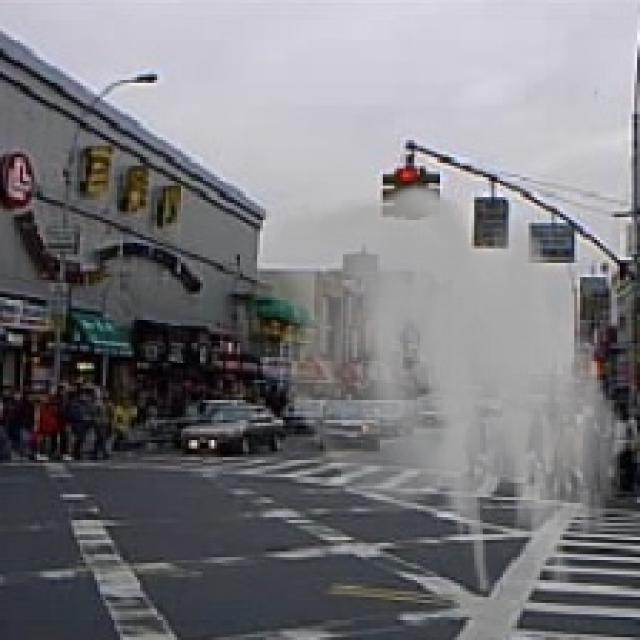Smoke: (266, 182, 632, 594)
